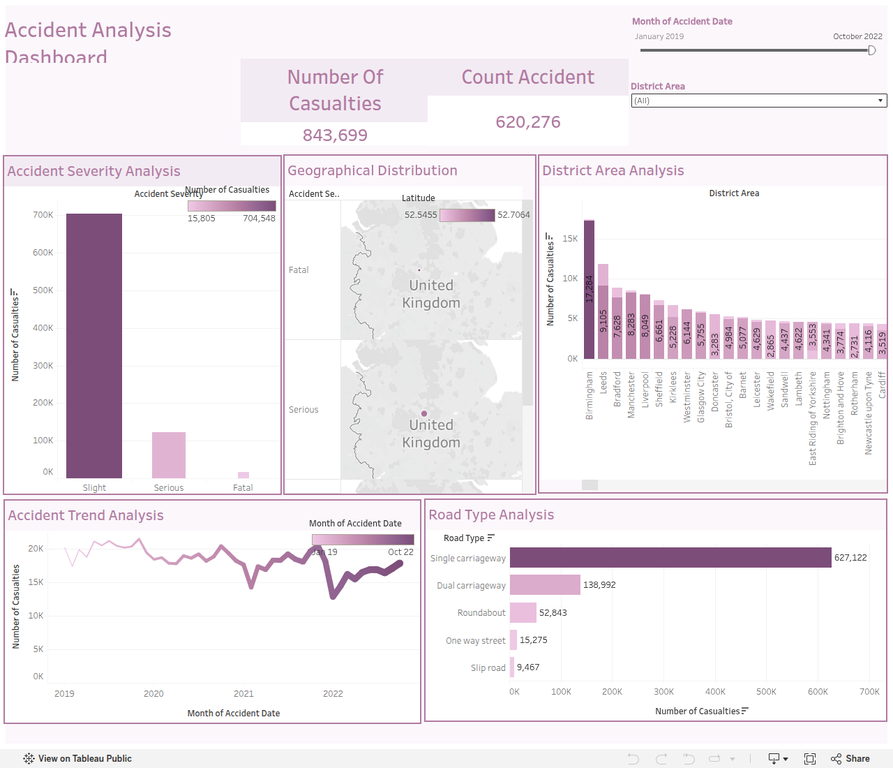

This screenshot's page, from the dashboard's own definition file:
{"tool":"tableau","page":{"name":"Accident Analysis Dashboard","canvas":[1000,1000],"units":"permille","ordinal":0},"visuals":[{"type":"text","box":[4.8,20,308.4,63.7]},{"type":"filter","title":"Accident Trend Analysis","param":"[federated.1h83u1t1l8f2cx12co21915gs4yb].[tmn:Accident Date:qk]","box":[707.9,20,283.7,81.2]},{"type":"worksheet","title":"Number Of Casualties","mark":"Automatic","box":[269.8,78.7,211.8,114.9]},{"type":"worksheet","title":"Count Accident","mark":"Automatic","box":[479.2,78.7,224.5,116.1]},{"type":"worksheet","title":"Geographical Distribution","mark":"Automatic","rows":["Accident_Severity","Latitude"],"cols":["Longitude"],"box":[317.4,206,283,454.4]},{"type":"worksheet","title":"District Area Analysis","mark":"Automatic","rows":["Number_of_Casualties"],"cols":["District Area"],"box":[602.3,206,392.3,453.2]},{"type":"worksheet","title":"Accident Severity Analysis","mark":"Bar","rows":["Number_of_Casualties"],"cols":["Accident_Severity"],"box":[3,207.2,312.6,453.2]},{"type":"legend","title":"Accident Severity Analysis","param":"[federated.1h83u1t1l8f2cx12co21915gs4yb].[sum:Number_of_Casualties:qk]","box":[207.1,244.7,105.7,54.9]},{"type":"legend","title":"Geographical Distribution","param":"[federated.1h83u1t1l8f2cx12co21915gs4yb].[avg:Latitude:qk]","box":[450.2,255.9,147.2,52.4]},{"type":"worksheet","title":"Road Type Analysis","mark":"Automatic","rows":["Road_Type"],"cols":["Number_of_Casualties"],"box":[474.9,665.4,519,298.4]},{"type":"worksheet","title":"Accident Trend Analysis","mark":"Automatic","rows":["Number_of_Casualties"],"cols":["Accident Date"],"box":[3.6,666.7,468.3,299.6]},{"type":"legend","title":"Accident Trend Analysis","param":"[federated.1h83u1t1l8f2cx12co21915gs4yb].[tmn:Accident Date:qk]","box":[346,690.4,121.4,56.2]}]}

Visuals, with their boxes on the dashboard's canvas, which has no fixed pixel size, in thousandths of its width and height (x1, y1, x2, y2). These are canvas units, not pixel positions in the 893x768 screenshot, which may show the page scaled, cropped or inside an application window:
text: Rect(5, 20, 313, 84)
"Accident Trend Analysis" filter: Rect(708, 20, 992, 101)
"Number Of Casualties" worksheet: Rect(270, 79, 482, 194)
"Count Accident" worksheet: Rect(479, 79, 704, 195)
"Geographical Distribution" worksheet: Rect(317, 206, 600, 660)
"District Area Analysis" worksheet: Rect(602, 206, 995, 659)
"Accident Severity Analysis" worksheet (Bar marks): Rect(3, 207, 316, 660)
"Accident Severity Analysis" legend: Rect(207, 245, 313, 300)
"Geographical Distribution" legend: Rect(450, 256, 597, 308)
"Road Type Analysis" worksheet: Rect(475, 665, 994, 964)
"Accident Trend Analysis" worksheet: Rect(4, 667, 472, 966)
"Accident Trend Analysis" legend: Rect(346, 690, 467, 747)
